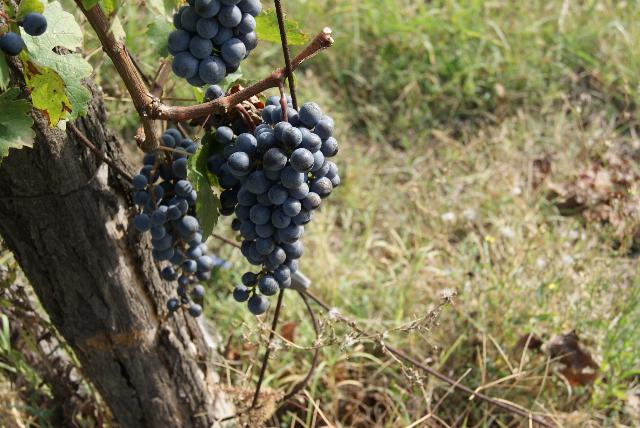grapes: (209, 94, 339, 315), (131, 128, 214, 318), (209, 159, 241, 216)
